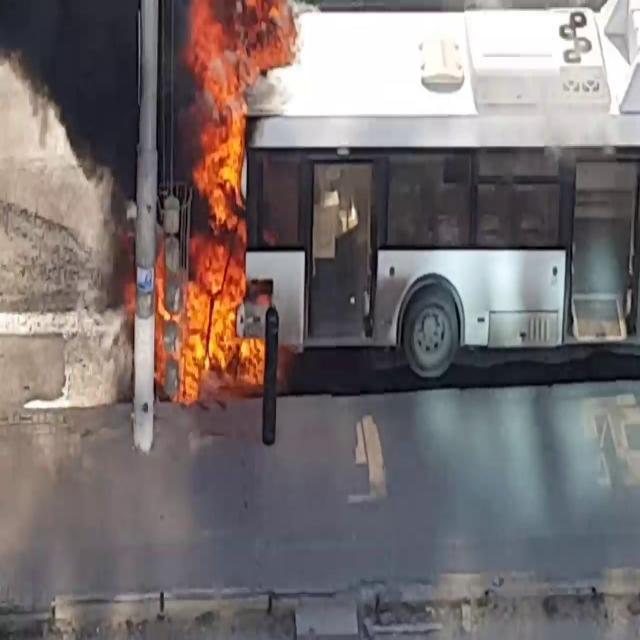Fire: (158, 2, 270, 400)
